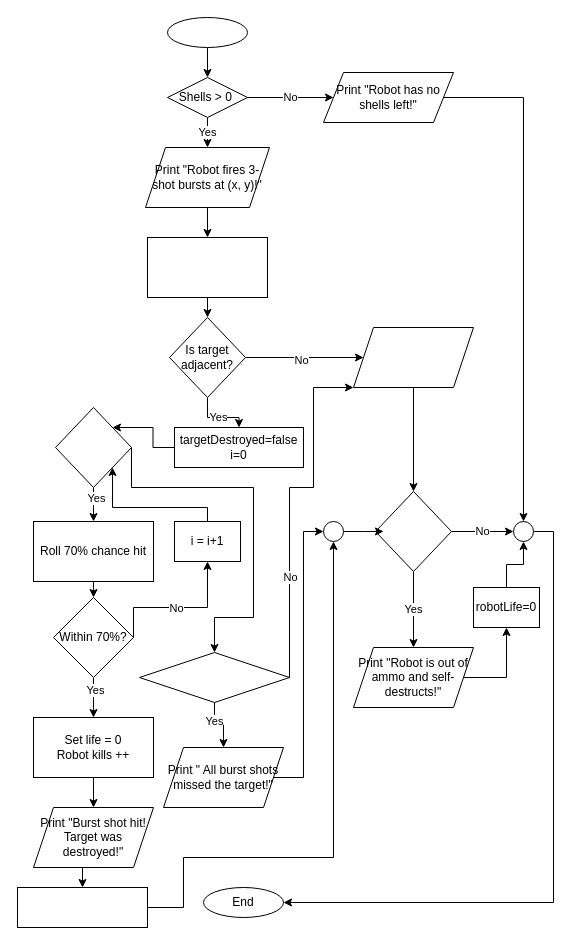
Image size: 579x945. Some labels were removed from this diagram. The shapes that lost their labels are listed below. From the top down, each one's centre as x and y in pixels, then its label:
point (207, 32): Start
point (207, 267): Shells = Shells - 1
point (413, 357): Print "Target not in adjacent position, burst shots missed!"
point (93, 447): i < 3
point (413, 531): Shells = 0?
point (214, 677): targetDestroyed = false
point (82, 907): targetDestroyed = true
